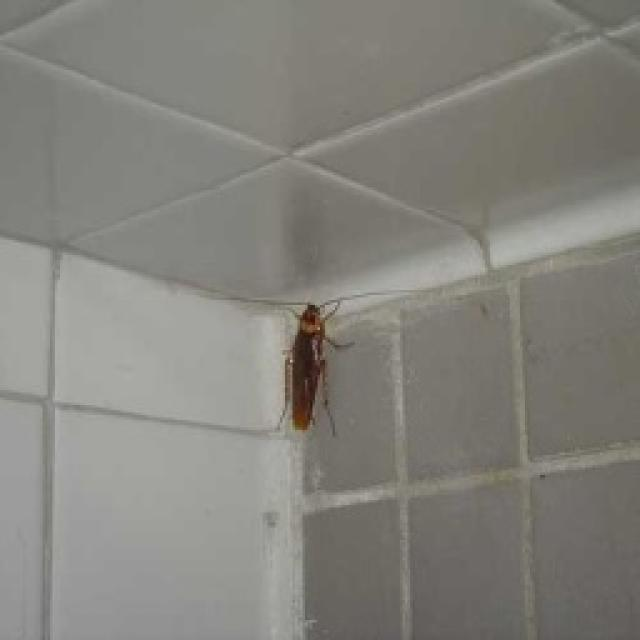cockroach: (273, 295, 358, 440)
